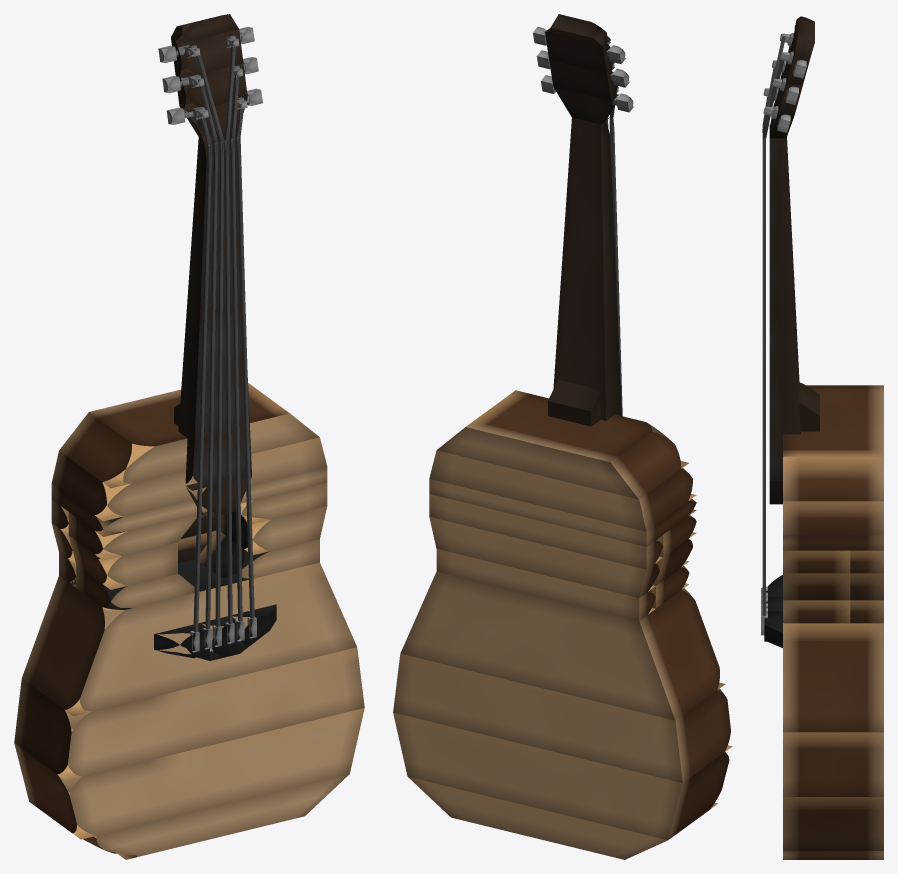
File: guitar.obj
The picture shows the model from 3 angles, left to right: view 1: azimuth 30°, elevation 25°; view 2: azimuth 150°, elevation 25°; view 3: azimuth 270°, elevation 25°; orthographic projection. The views are drawn at different scales.
Visible parts, largest first — view 1: gunModel0, gunModel1, gunModel2, gunModel16, gunModel4, gunModel5, gunModel3, gunModel6, gunModel7, gunModel12, gunModel8, gunModel9 (+18 smaller); view 2: gunModel0, gunModel1, gunModel2, gunModel16, gunModel4, gunModel5, gunModel14, gunModel3, gunModel13, gunModel15, gunModel6, gunModel17 (+8 smaller); view 3: gunModel0, gunModel4, gunModel16, gunModel1, gunModel2, gunModel5, gunModel34, gunModel8, gunModel10, gunModel11, gunModel6, gunModel14 (+11 smaller).
Boxes of the visible parts, x1,y1,x2,y2 form: gunModel0: (22,549,356,716); gunModel1: (14,647,364,780); gunModel2: (14,708,364,839); gunModel16: (178,135,251,490); gunModel4: (59,383,319,488); gunModel5: (51,437,327,521); gunModel3: (69,774,349,859); gunModel6: (51,467,327,536); gunModel7: (69,531,177,589); gunModel12: (68,512,196,560); gunModel8: (221,504,327,555); gunModel9: (76,556,199,613); gunModel0: (400,571,725,720); gunModel1: (393,653,732,782); gunModel2: (393,712,729,839); gunModel16: (553,117,621,420); gunModel4: (437,390,688,499); gunModel5: (429,450,696,531); gunModel14: (429,516,659,597); gunModel3: (408,777,667,859); gunModel13: (429,494,662,569); gunModel15: (436,549,655,620); gunModel6: (429,479,696,546); gunModel17: (548,379,601,426); gunModel0: (783,623,883,732); gunModel4: (783,385,883,501); gunModel16: (769,137,800,480); gunModel1: (783,732,883,796); gunModel2: (783,797,883,850); gunModel5: (783,501,883,535); gunModel34: (762,137,765,616); gunModel8: (783,573,850,600); gunModel10: (783,600,850,623); gunModel11: (783,550,850,573); gunModel6: (783,535,883,550); gunModel14: (850,573,883,600).
Bounding box in the file's own units: 10 × 26 × 3.65.
